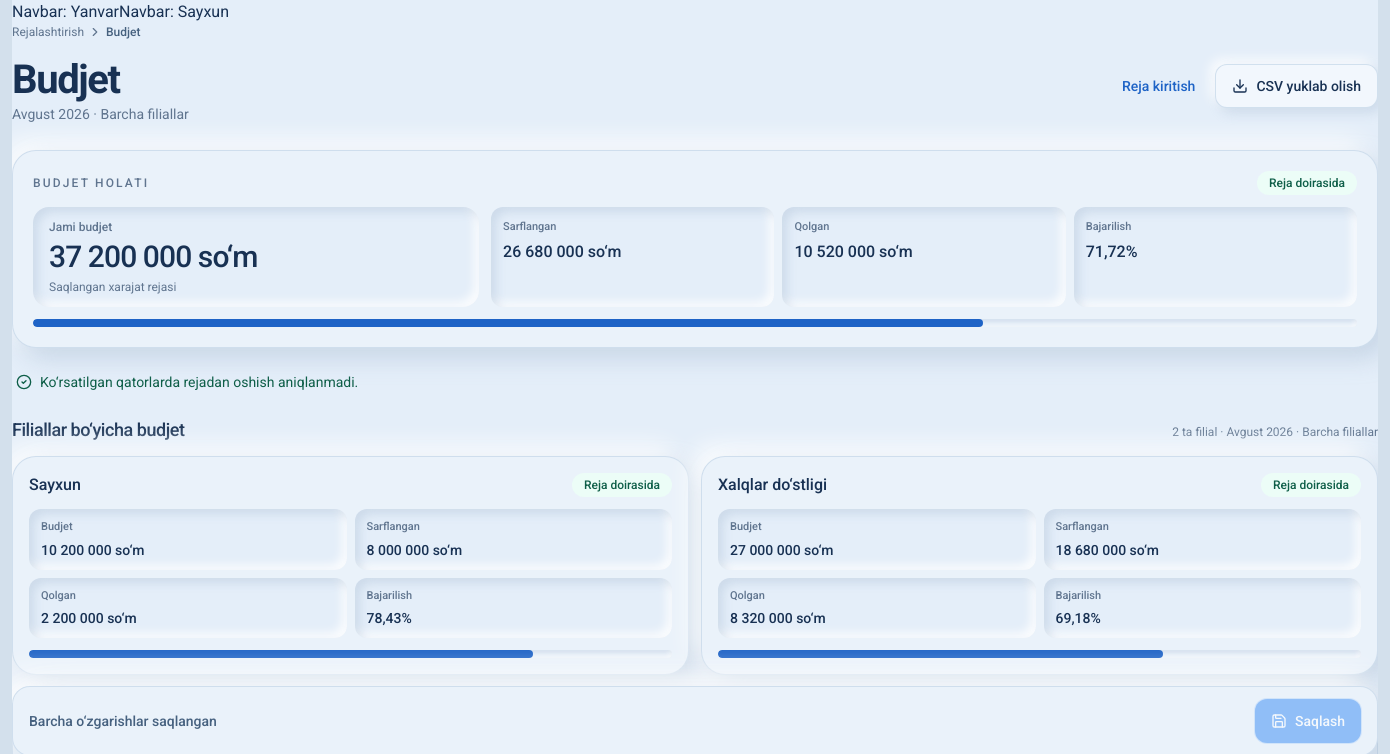
Budjet sahifasi › doimiy va o‘zgaruvchan budjetni filiallar bo‘yicha ajratib, ulushini ko‘rsatadi
Step 1. Click the link "Navbar: Sayxun" → coordinates (174, 12), box left=119, top=2, right=229, bottom=21
(page scrolled)
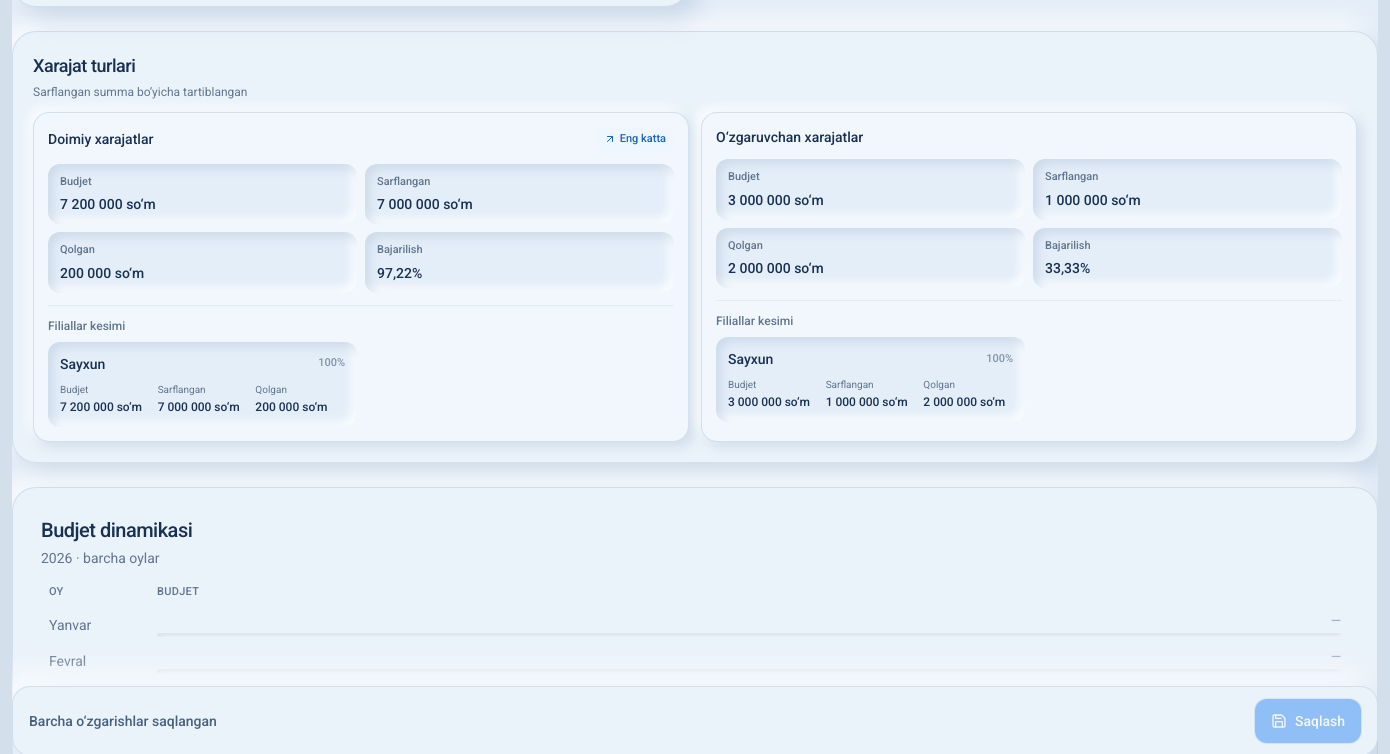
Result: the element named "Doimiy xarajatlar — Sayxun" shows "100%" at left=318, top=356, right=345, bottom=369
